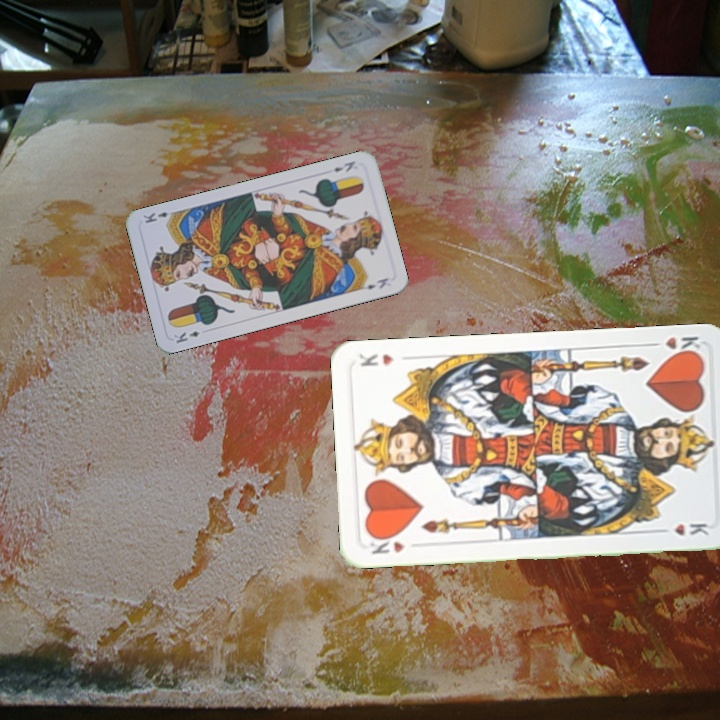EK: (170, 327, 202, 346), (330, 157, 358, 174)
HK: (645, 332, 703, 359), (367, 531, 407, 557)
